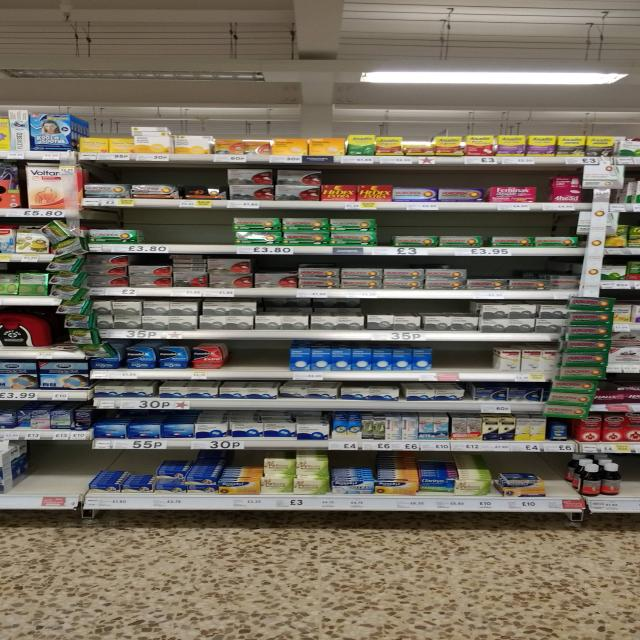unorganised: (261, 299, 355, 313), (277, 385, 340, 401), (339, 385, 402, 401), (175, 135, 213, 155), (171, 254, 206, 273), (183, 187, 221, 199), (403, 138, 431, 154), (550, 276, 579, 291), (130, 126, 172, 135), (245, 141, 272, 154)
